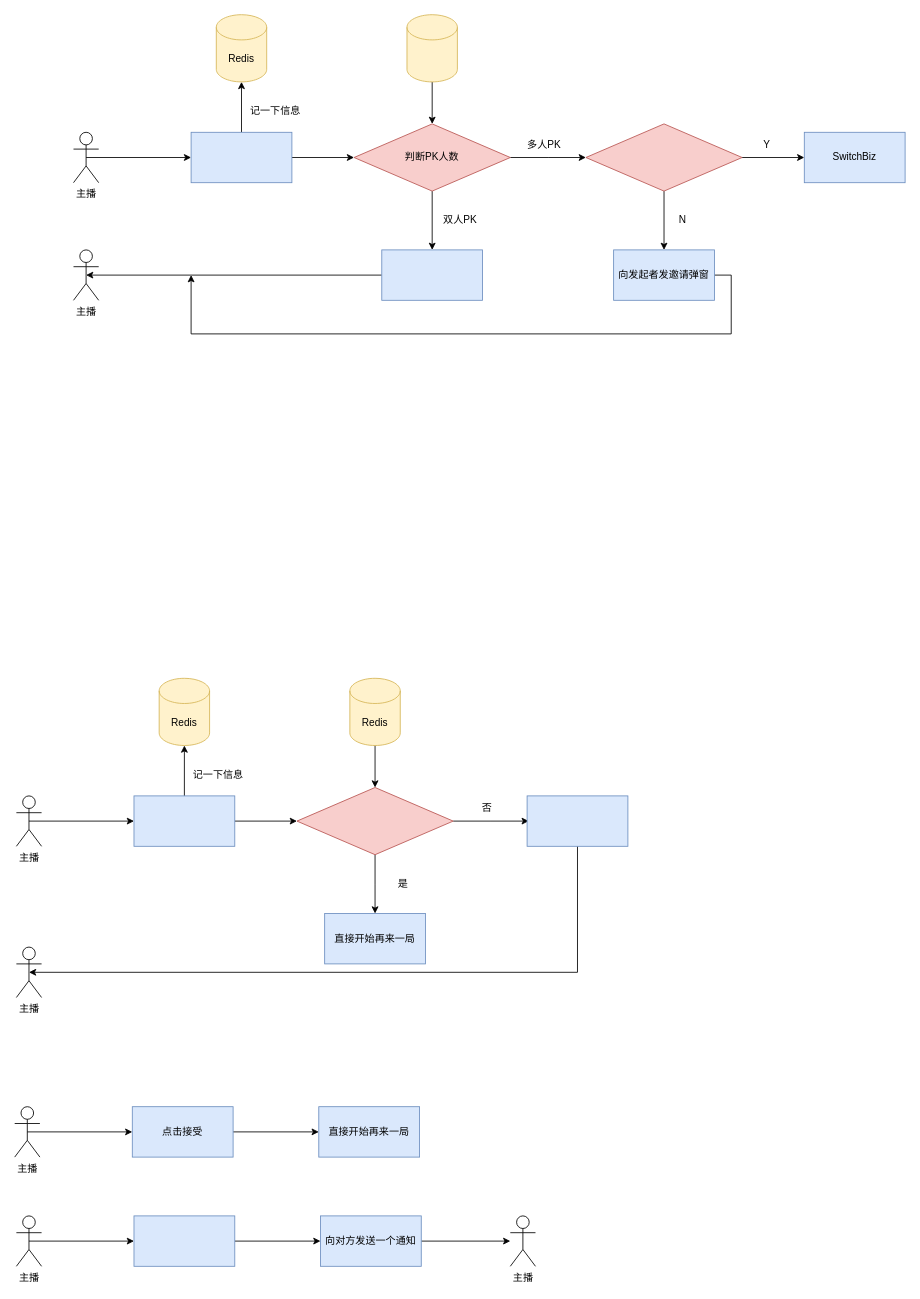
The diagram is 920 pixels wide and 1299 high, and some of its shapes have lost their labels. Each missing label, with the centre of its shape:
mem: (x=431, y=48)
判断对方是否已经点击: (x=374, y=821)
向对方主播发弹窗: (x=432, y=274)
向对方发邀请弹窗: (x=577, y=820)
是否是发起者: (x=663, y=157)
点击再来一局: (x=184, y=820)
点击拒绝: (x=184, y=1240)
申请再来一局: (x=241, y=157)
